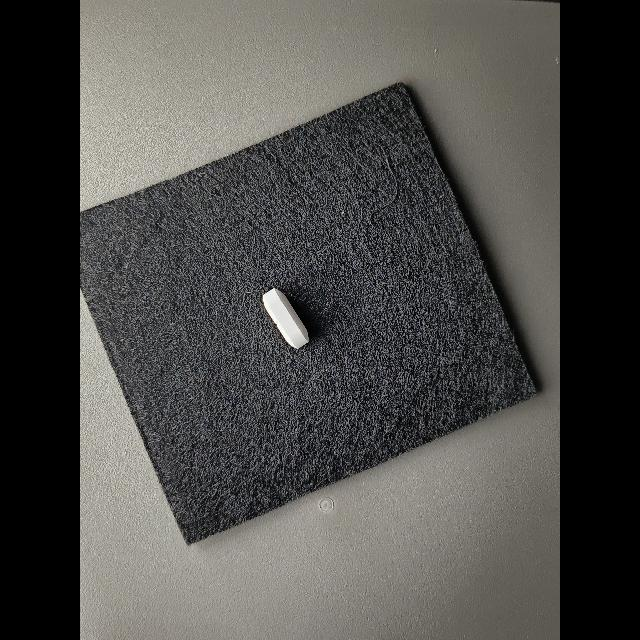Intact Pill: (263, 288, 309, 349)
